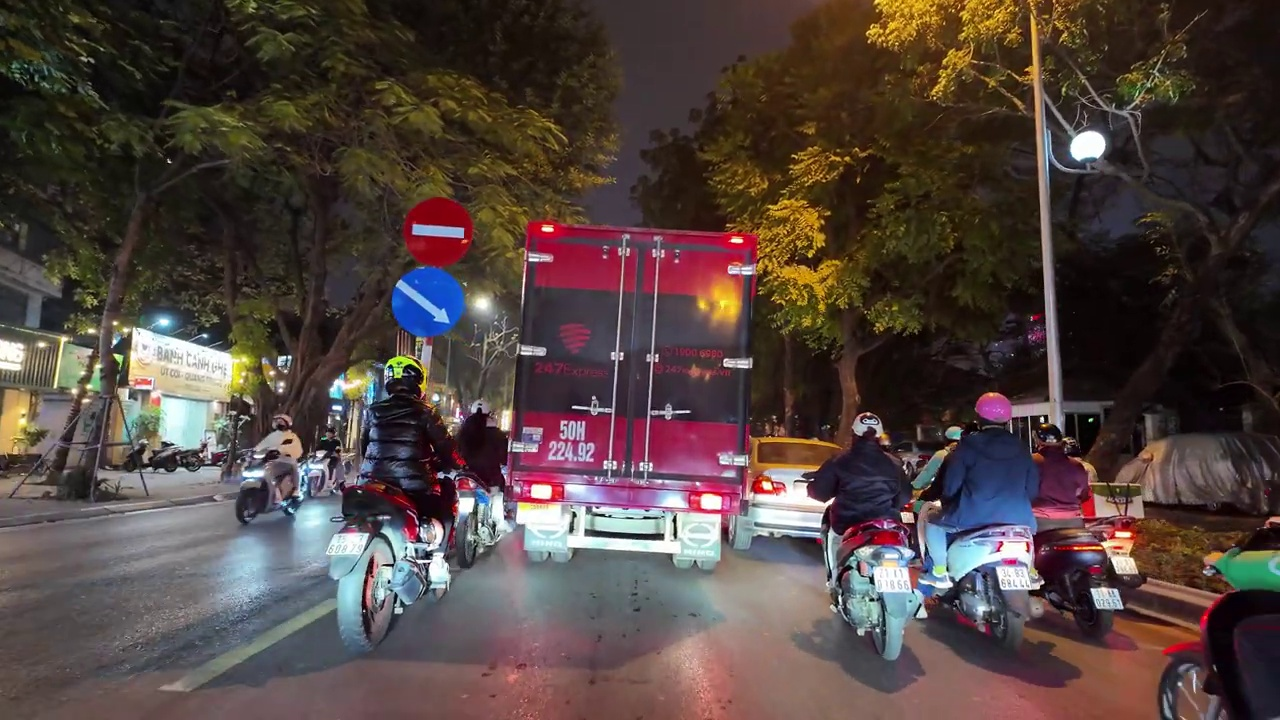acesa: (707, 283, 739, 320), (562, 324, 589, 351), (468, 290, 496, 316)
